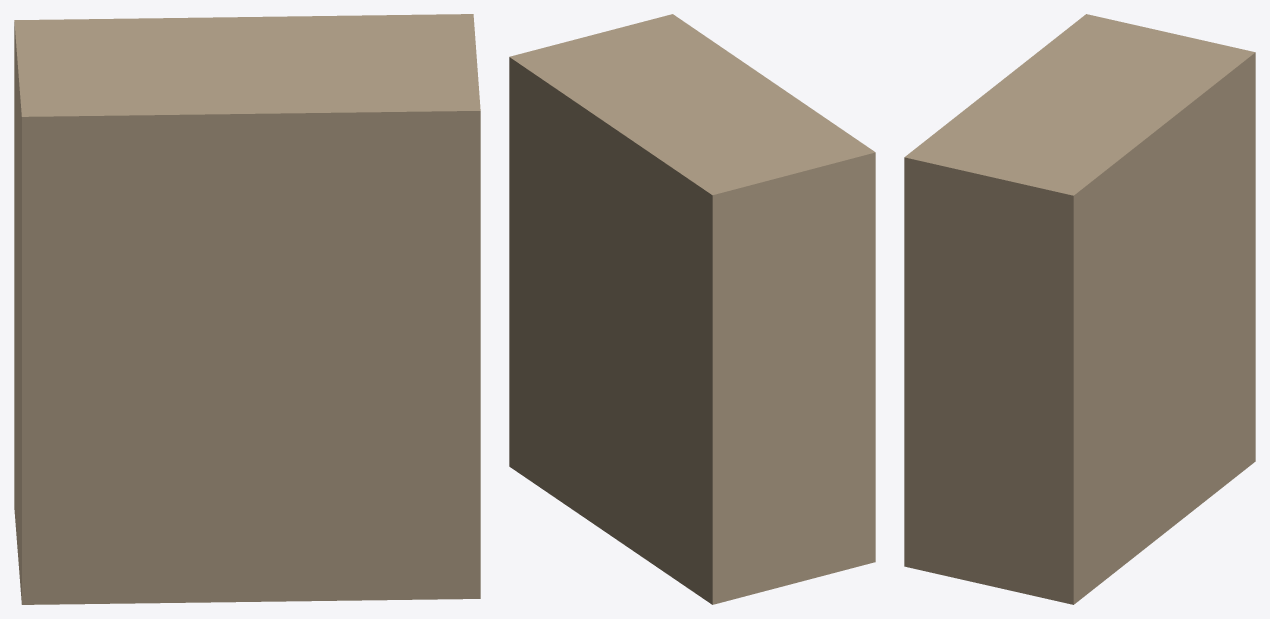
File: bld_101289715.dae
3 views of the same model, side by side, from view 1: azimuth 30°, elevation 25°; view 2: azimuth 150°, elevation 25°; view 3: azimuth 270°, elevation 25° (orthographic). The views are drawn at different scales.
Visible parts, largest first — view 1: bld_101289715; view 2: bld_101289715; view 3: bld_101289715.
Part boxes in pixels (box(x1,y1,x2,y2)): bld_101289715: box(14, 14, 480, 604); bld_101289715: box(509, 14, 875, 604); bld_101289715: box(904, 14, 1255, 604).
Size of the model in its own units: 7.62 by 6.22 by 8.
